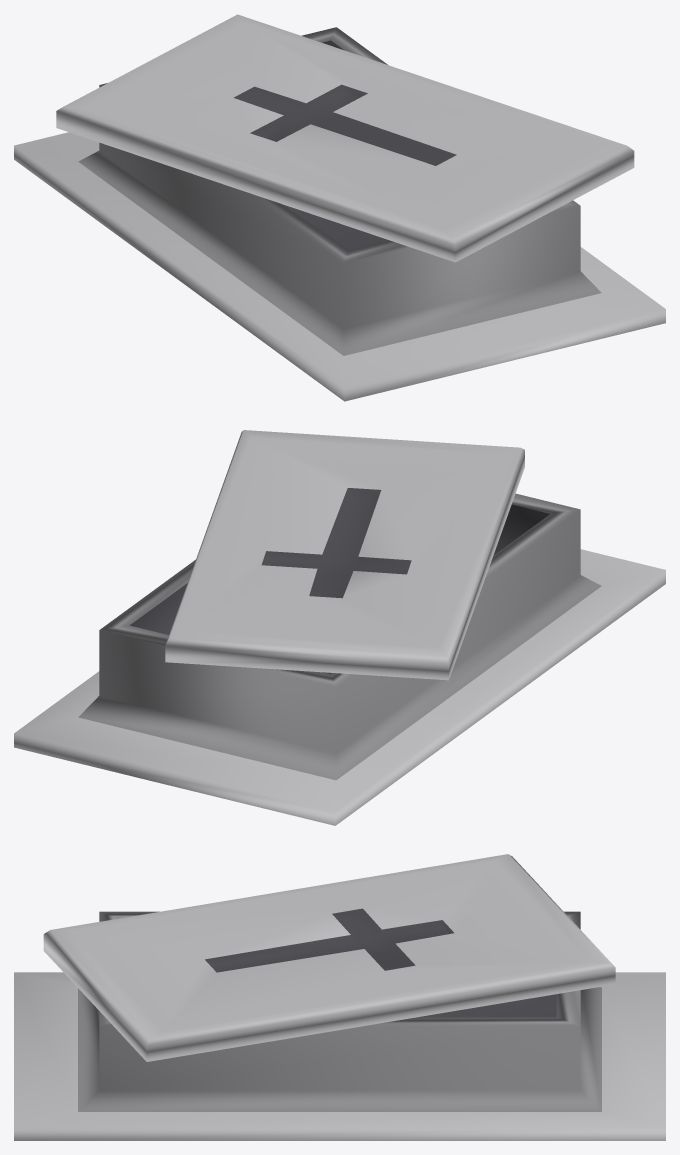
The model's file is Sarcophagus01.glb.
3 views of the same model, one above another, from view 1: azimuth 30°, elevation 25°; view 2: azimuth 150°, elevation 25°; view 3: azimuth 270°, elevation 25° (orthographic).
Visible parts, largest first — view 1: Sarcophagus01; view 2: Sarcophagus01; view 3: Sarcophagus01.
Boxes of the visible parts, x1,y1,x2,y2 form: Sarcophagus01: (14, 14, 665, 401); Sarcophagus01: (14, 430, 665, 825); Sarcophagus01: (14, 854, 665, 1140).
Size of what is drawn, in the model's own units: 1.46 by 0.4214 by 2.12.
Materials: 1 (1 with a texture image).
